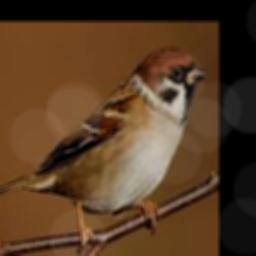Sparrow: (0, 47, 207, 253)
